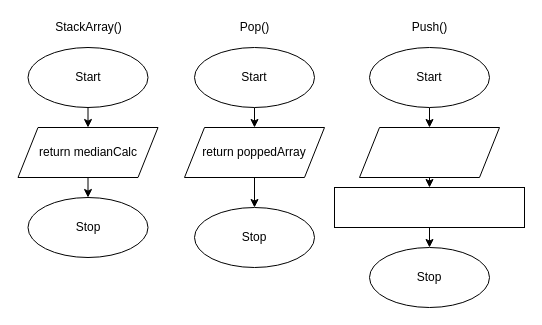
This 542x325 diagram has some shape labels left out. Here are the shapes that lost their labels. From the top down, the box of each, then its label:
(358, 126, 500, 178): Get pushedNum
(334, 186, 524, 228): this.stackClass.push(pushedNum)
